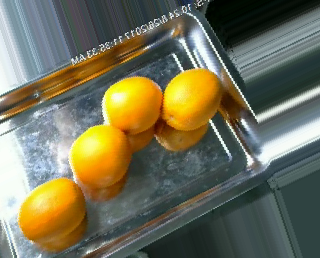Orange: (17, 175, 86, 243), (66, 123, 132, 187), (161, 68, 222, 132), (100, 76, 164, 134)
